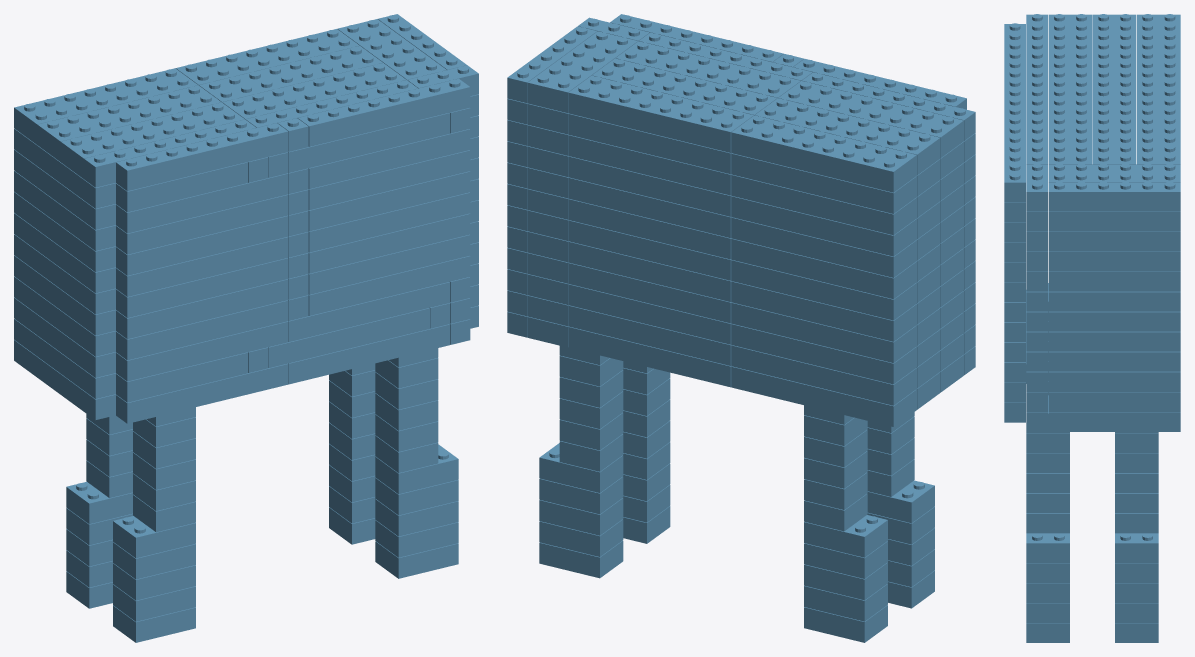
File: 195_piano_L5.glb
3 renders of one model, left to right at view 1: azimuth 30°, elevation 25°; view 2: azimuth 150°, elevation 25°; view 3: azimuth 270°, elevation 25°, orthographic. The views are drawn at different scales.
Bounding box in the file's own units: 18.98 × 23.13 × 7.98.
